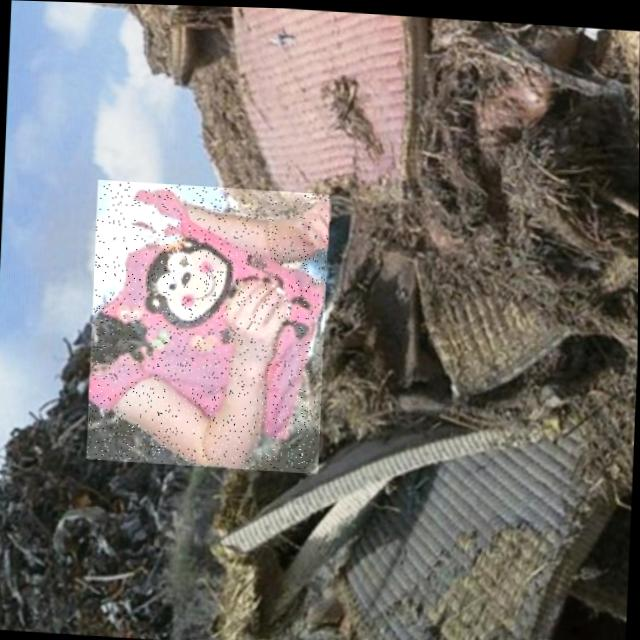Person in Rubble: (86, 177, 330, 471)
